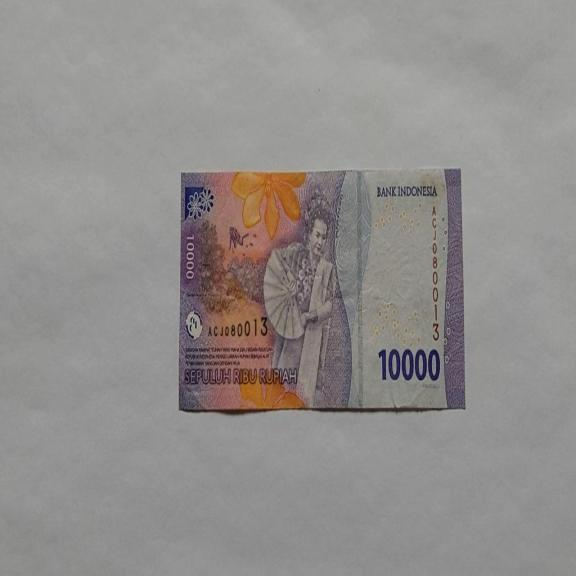Kertas: (178, 167, 464, 414), (377, 345, 441, 382)
